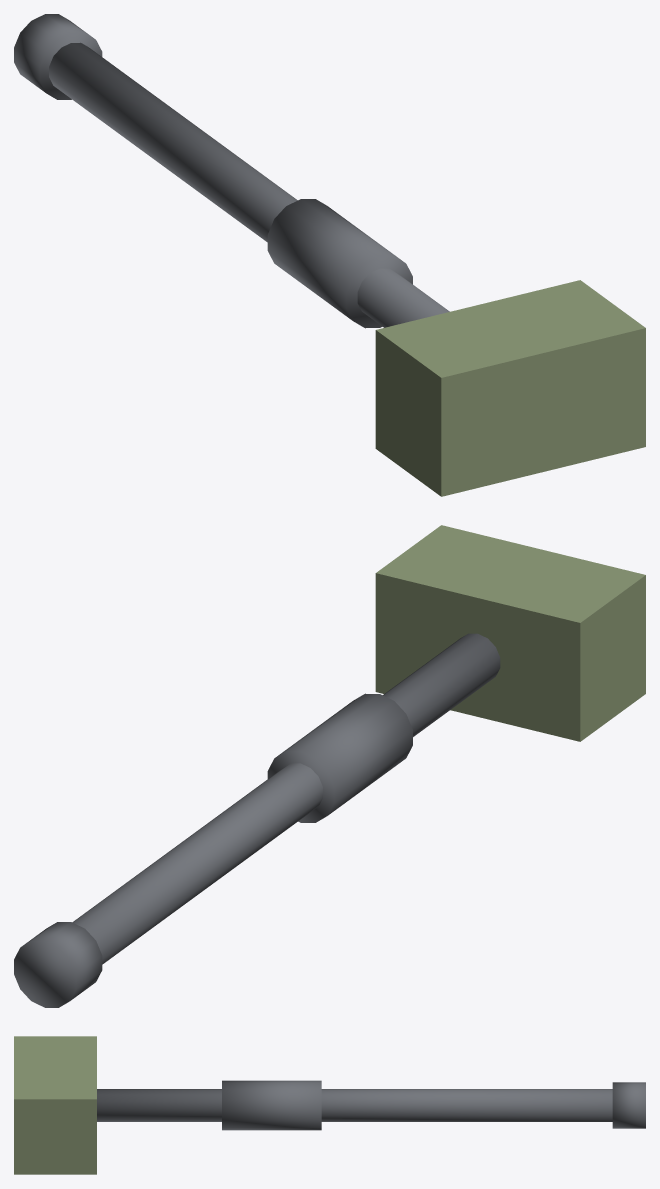
File: tank_gun.gltf
3 views of the same model, one above another, from view 1: azimuth 30°, elevation 25°; view 2: azimuth 150°, elevation 25°; view 3: azimuth 270°, elevation 25° (orthographic). The views are drawn at different scales.
Visible parts, largest first — view 1: tank_gun; view 2: tank_gun; view 3: tank_gun.
Boxes of the visible parts, bbox=[...] form: tank_gun: bbox=[14, 14, 645, 496]; tank_gun: bbox=[14, 525, 645, 1007]; tank_gun: bbox=[14, 1036, 645, 1174].
Bounding box in the file's own units: 0.9 × 0.5 × 3.8.
